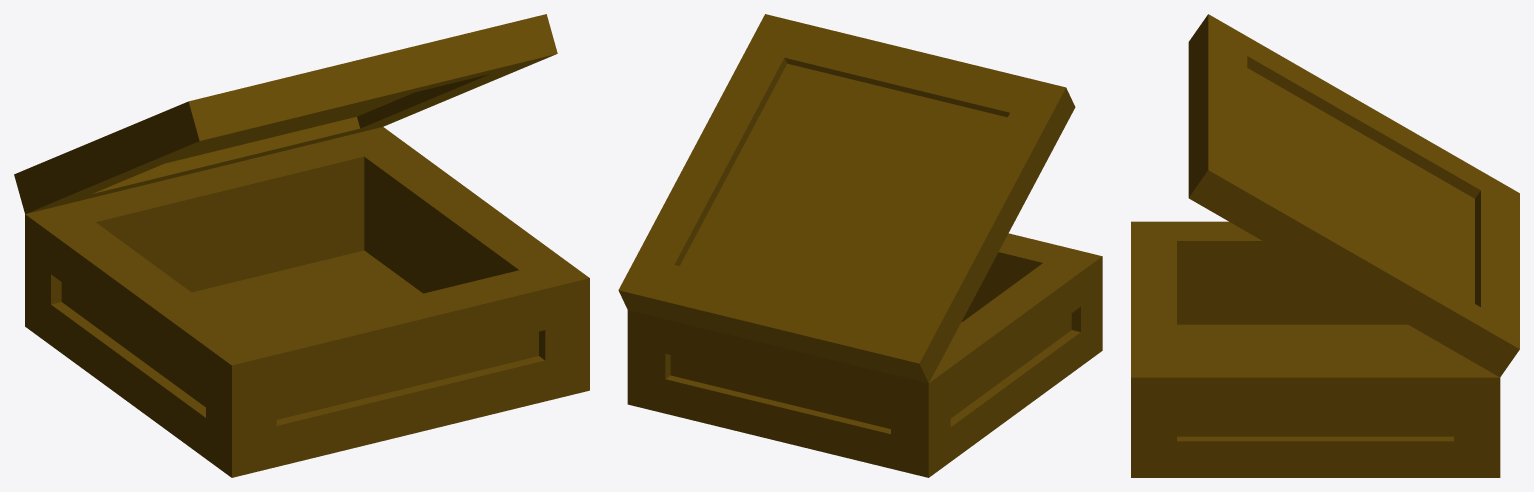
File: IngreditentCrate.fbx
3 renders of one model, left to right at view 1: azimuth 30°, elevation 25°; view 2: azimuth 150°, elevation 25°; view 3: azimuth 270°, elevation 25°, orthographic. The views are drawn at different scales.
Visible parts, largest first — view 1: Base, Lid; view 2: Lid, Base; view 3: Base, Lid.
Boxes of the visible parts, x1,y1,x2,y2 form: Base: (25,127,589,477); Lid: (14,14,557,213); Lid: (618,14,1075,383); Base: (627,233,1102,477); Base: (1131,221,1500,477); Lid: (1188,14,1519,377).
Bounding box in the file's own units: 100 × 92.04 × 105.
